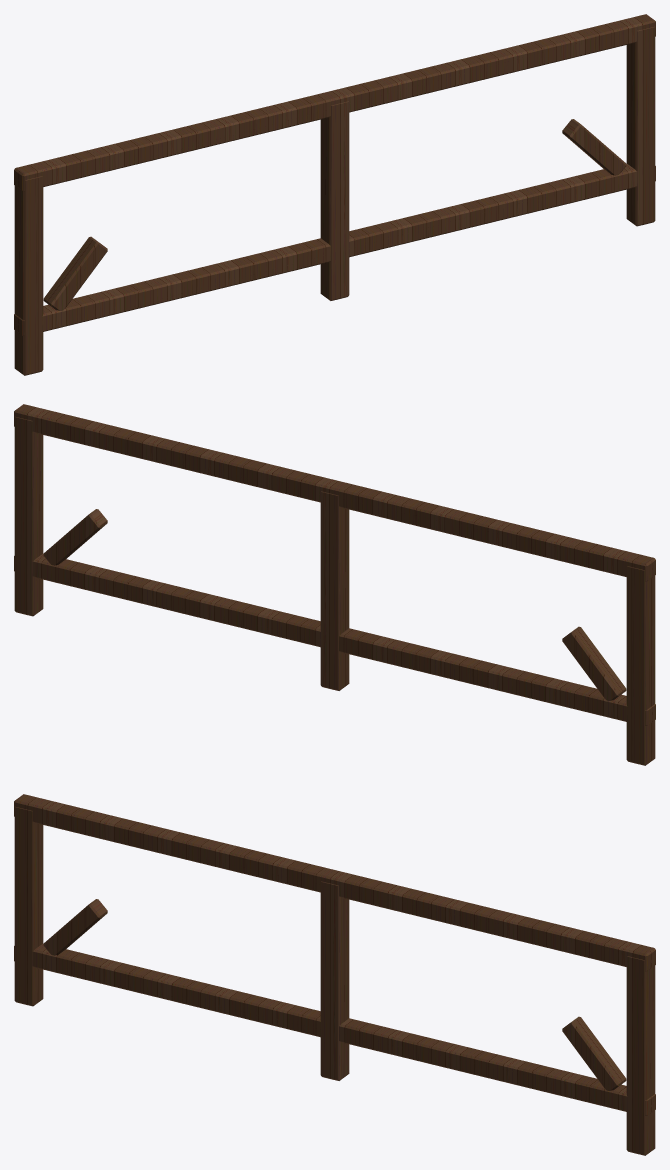
Rendered from SM_HH_V2_Timber_CameraSide.fbx.
3 renders of one model, top to bottom at view 1: azimuth 30°, elevation 25°; view 2: azimuth 150°, elevation 25°; view 3: azimuth 330°, elevation 25°, orthographic.
Parts seen in each view (by area): view 1: HH_V2_Timber_CameraSide; view 2: HH_V2_Timber_CameraSide; view 3: HH_V2_Timber_CameraSide.
Boxes of the visible parts, x1=… form: HH_V2_Timber_CameraSide: x1=14, y1=14, x2=655, y2=375; HH_V2_Timber_CameraSide: x1=14, y1=404, x2=655, y2=765; HH_V2_Timber_CameraSide: x1=14, y1=794, x2=655, y2=1155.
Size of the model in its own units: 0.25 by 8.8 by 2.68.
